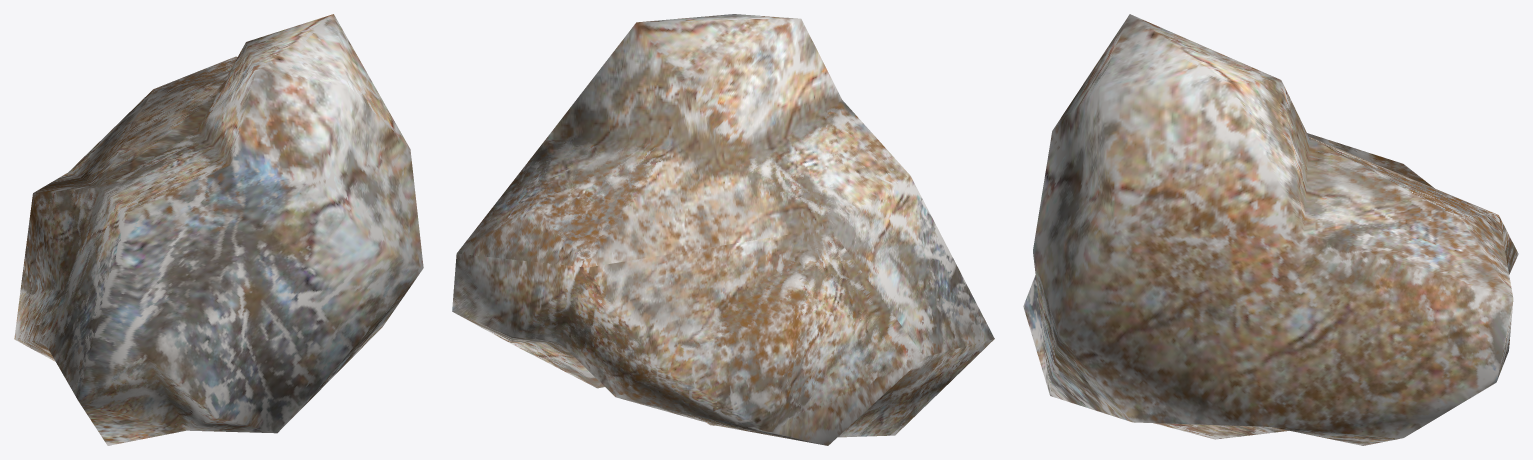
Rendered from SM_pebble_01.fbx.
3 views of the same model, side by side, from view 1: azimuth 30°, elevation 25°; view 2: azimuth 150°, elevation 25°; view 3: azimuth 270°, elevation 25° (orthographic). The views are drawn at different scales.
Parts seen in each view (by area): view 1: SM_pebble_01_LOD0; view 2: SM_pebble_01_LOD0; view 3: SM_pebble_01_LOD0.
Boxes of the visible parts, x1,y1,x2,y2 form: SM_pebble_01_LOD0: (14, 14, 423, 445); SM_pebble_01_LOD0: (452, 14, 994, 445); SM_pebble_01_LOD0: (1023, 14, 1518, 445).
Bounding box in the file's own units: 10.35 × 10.12 × 9.79.
1 material, 1 textured.
